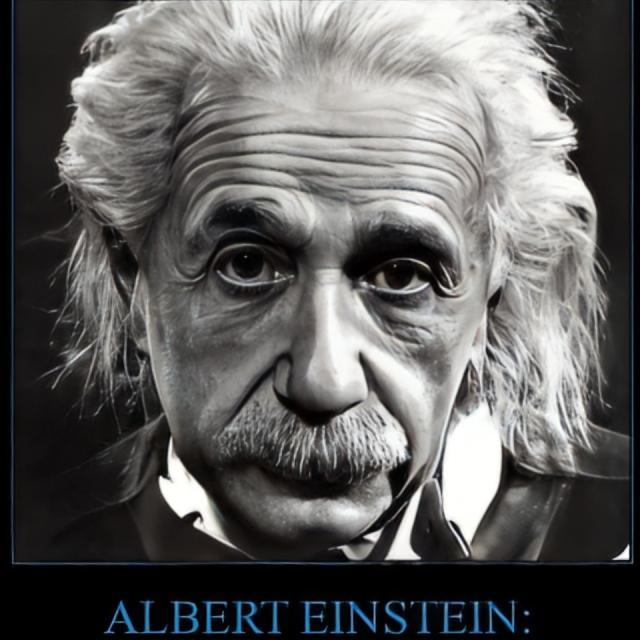sad: (148, 86, 492, 557)
